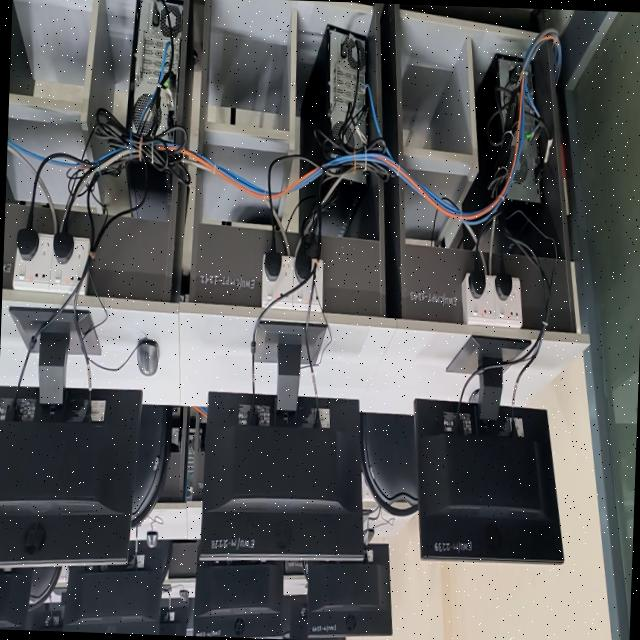Chair: (359, 411, 417, 514), (130, 405, 171, 525), (28, 565, 60, 609)
Cpu: (132, 0, 182, 134), (327, 28, 366, 147), (505, 119, 539, 201), (498, 57, 520, 89), (501, 94, 508, 118)
Monitor: (198, 391, 363, 559), (0, 386, 141, 566), (413, 398, 562, 562), (61, 540, 171, 635), (306, 544, 390, 636), (193, 560, 282, 638), (282, 595, 344, 640), (0, 568, 30, 630)
Mouse: (135, 339, 158, 374), (145, 531, 157, 547), (364, 528, 373, 542), (178, 588, 188, 600)
